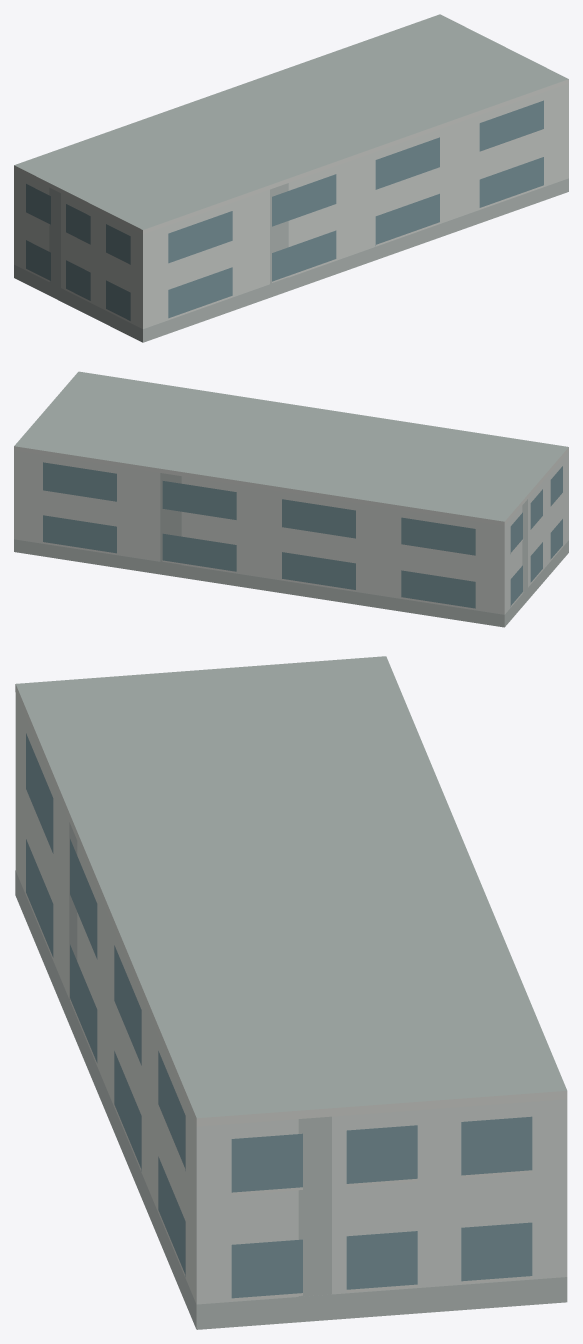
The model's file is residential-1e3a2b7c-c491-4688-8ec3-d7ca80439b73.glb.
The picture shows the model from 3 angles, top to bottom: view 1: azimuth 30°, elevation 25°; view 2: azimuth 150°, elevation 25°; view 3: azimuth 270°, elevation 25°; orthographic projection. The views are drawn at different scales.
Visible parts, largest first — view 1: residential-1e3a2b7c-c491-4688-8ec3-d7ca80439b73.tmp; view 2: residential-1e3a2b7c-c491-4688-8ec3-d7ca80439b73.tmp; view 3: residential-1e3a2b7c-c491-4688-8ec3-d7ca80439b73.tmp.
Part boxes in pixels (x1,y1,x2,y2): residential-1e3a2b7c-c491-4688-8ec3-d7ca80439b73.tmp: (14,14,568,342); residential-1e3a2b7c-c491-4688-8ec3-d7ca80439b73.tmp: (14,371,568,627); residential-1e3a2b7c-c491-4688-8ec3-d7ca80439b73.tmp: (15,656,567,1329).
Size of the model in its own units: 28.58 by 6.1 by 14.43.
